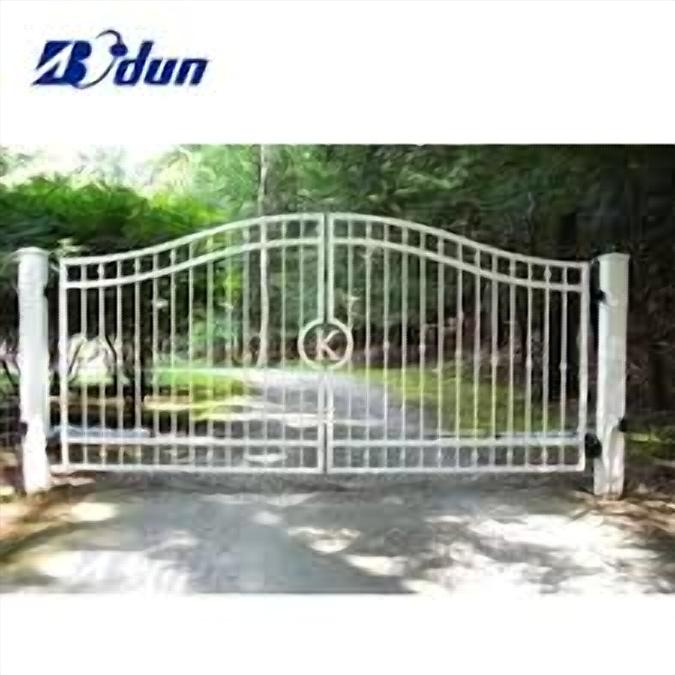Gate: (13, 211, 630, 498)
